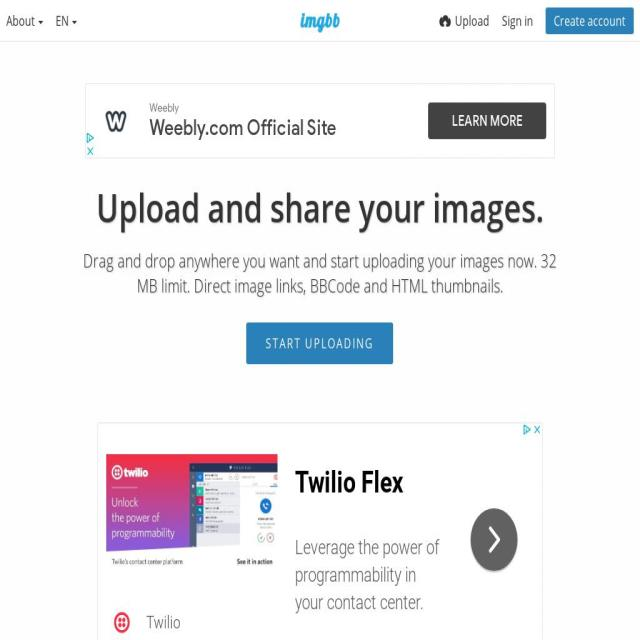button: (246, 323, 394, 364), (546, 8, 634, 29), (283, 12, 357, 32), (502, 0, 533, 42)
heading: (60, 183, 580, 231)
iframe: (98, 422, 543, 640), (85, 84, 556, 158)
image: (283, 12, 357, 32)
text: (72, 248, 567, 298), (554, 12, 626, 30), (455, 12, 489, 30), (502, 12, 533, 30), (6, 12, 35, 30), (56, 12, 68, 30)
